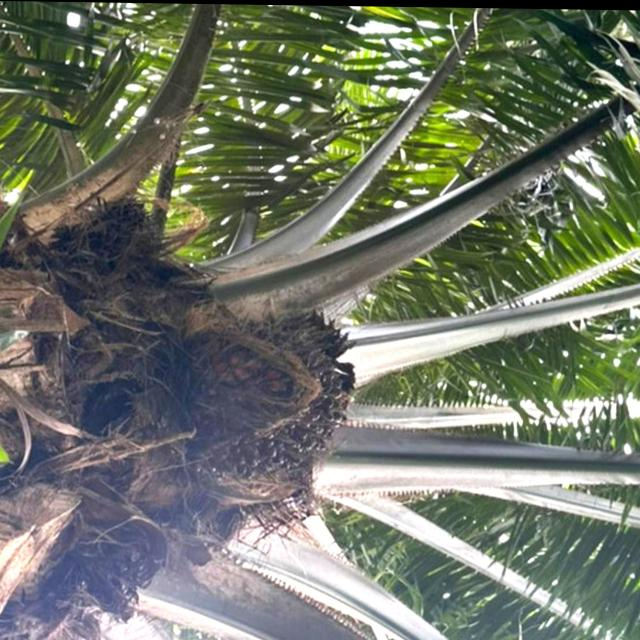ripe: (170, 288, 373, 504)
